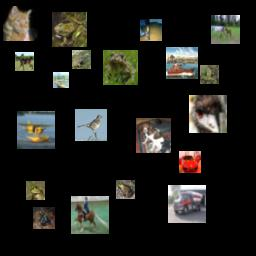airplane: (17, 111, 55, 149)
automobile: (179, 151, 201, 173)
bird: (189, 95, 227, 133), (75, 109, 107, 141)
cat: (3, 6, 38, 41), (136, 118, 171, 153), (140, 19, 162, 41)
frog: (103, 50, 138, 85), (52, 12, 87, 47), (33, 207, 55, 229), (116, 180, 135, 199), (200, 65, 219, 84), (26, 181, 45, 200), (72, 50, 91, 69)
ship: (166, 47, 198, 79), (53, 72, 69, 88)
truck: (168, 185, 206, 223)
